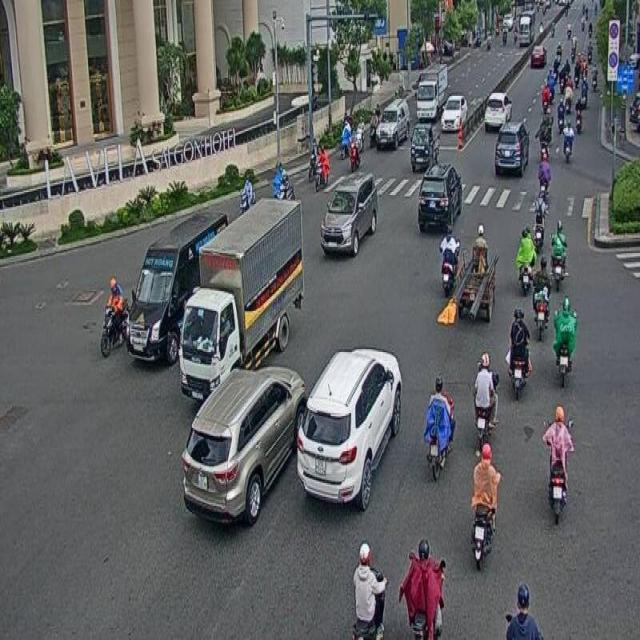car: (178, 358, 306, 533), (296, 340, 405, 512), (320, 169, 378, 256), (418, 162, 462, 230), (495, 119, 530, 174), (374, 99, 406, 148), (410, 119, 439, 169), (484, 92, 511, 130), (441, 93, 467, 131)
motorcycle: (456, 222, 498, 324), (401, 539, 443, 640), (468, 436, 498, 567), (350, 541, 385, 640), (543, 401, 572, 518), (471, 347, 500, 451), (423, 375, 452, 475), (506, 306, 532, 398), (100, 276, 130, 352), (551, 297, 577, 384), (530, 253, 552, 338), (548, 216, 567, 291), (438, 225, 459, 292), (515, 226, 535, 291)
truck: (181, 195, 304, 404), (126, 210, 232, 361)
